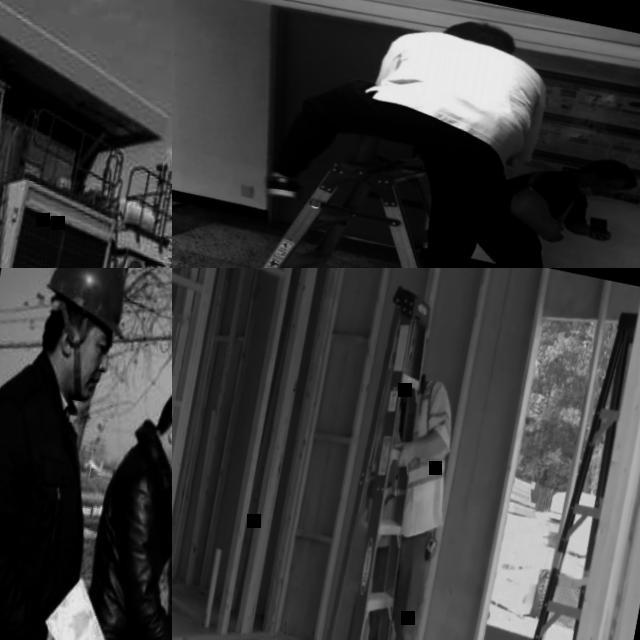Helmet: (52, 262, 130, 337)
Robbery: (318, 0, 591, 264), (0, 267, 112, 640), (384, 282, 458, 640), (109, 358, 173, 640)
